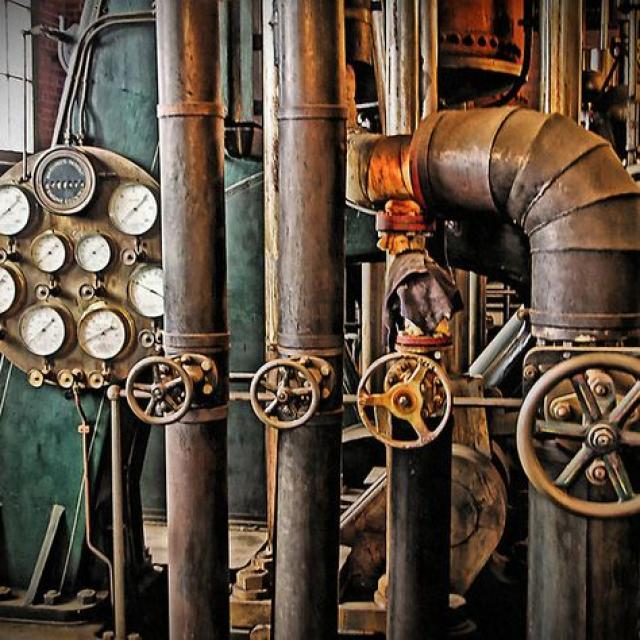Wheel Handle Valve Threaded: (517, 326, 640, 517), (357, 343, 452, 450), (126, 331, 230, 424), (252, 347, 346, 430)
